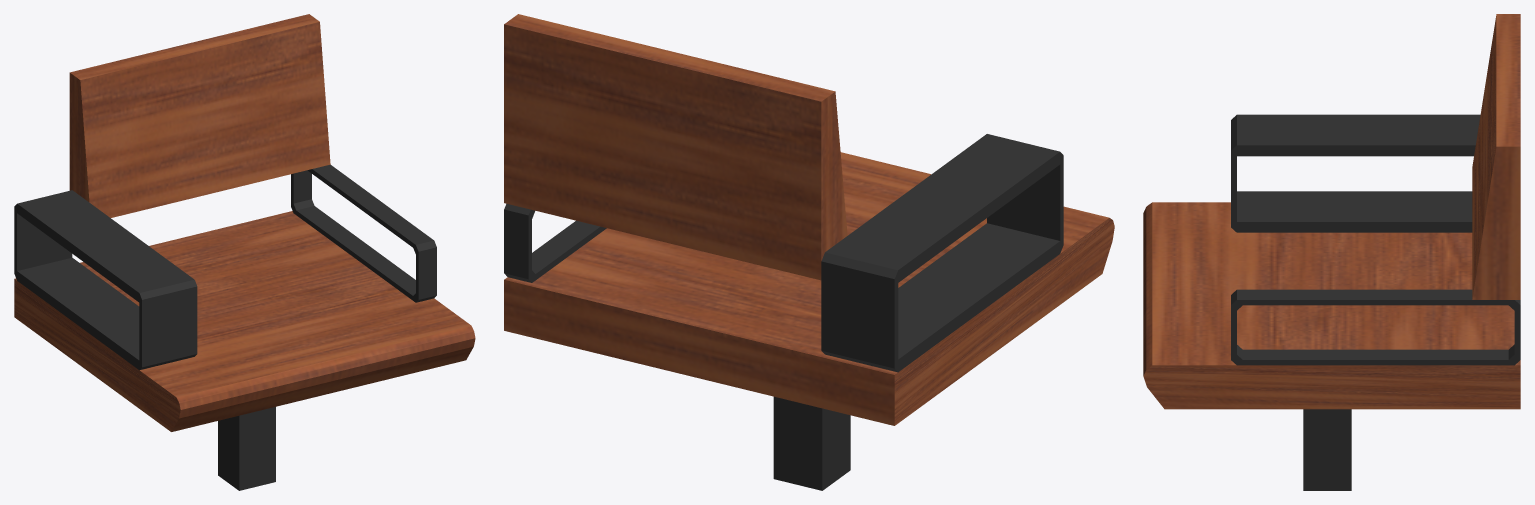
File: nyc_subway_bench_2a.obj
3 renders of one model, left to right at view 1: azimuth 30°, elevation 25°; view 2: azimuth 150°, elevation 25°; view 3: azimuth 270°, elevation 25°, orthographic. The views are drawn at different scales.
Visible parts, largest first — view 1: cube; view 2: cube; view 3: cube.
Boxes of the visible parts, x1,y1,x2,y2 form: cube: [14, 14, 475, 490]; cube: [504, 14, 1114, 490]; cube: [1143, 14, 1520, 490].
Bounding box in the file's own units: 1 × 1.19 × 0.9766.
2 materials, 2 textured.
